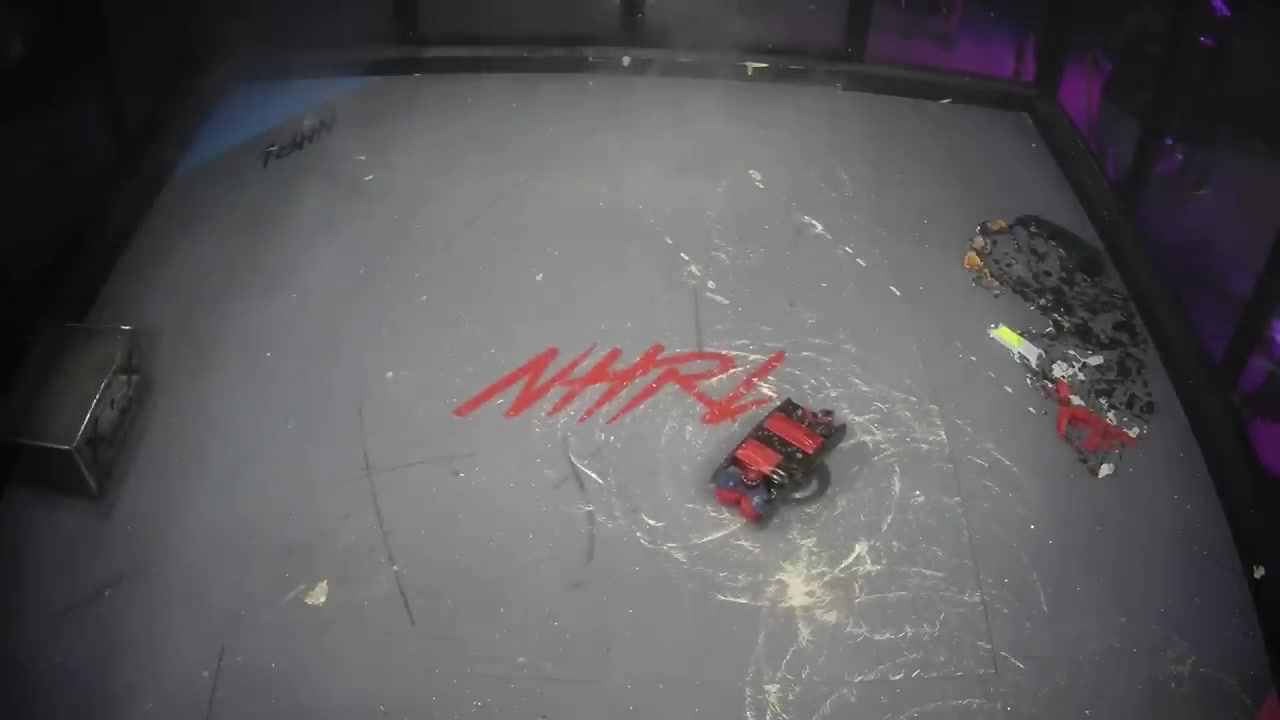combatbot: (707, 398, 845, 529)
housebot: (4, 321, 151, 503)
